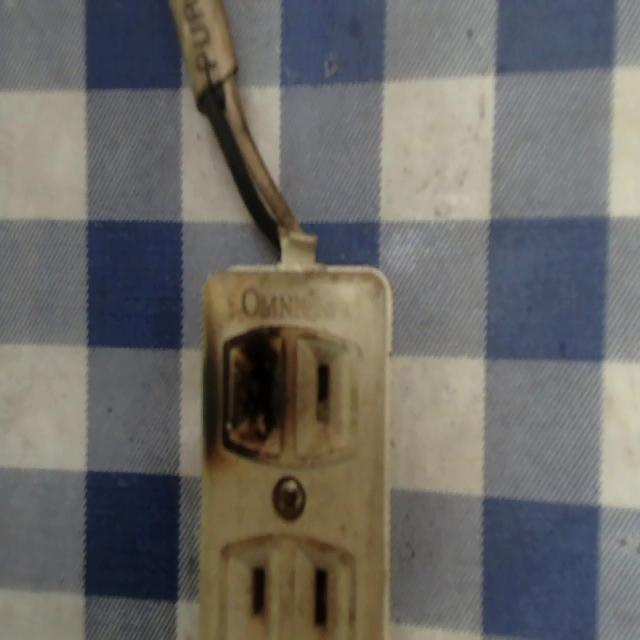-: (215, 328, 287, 461)
